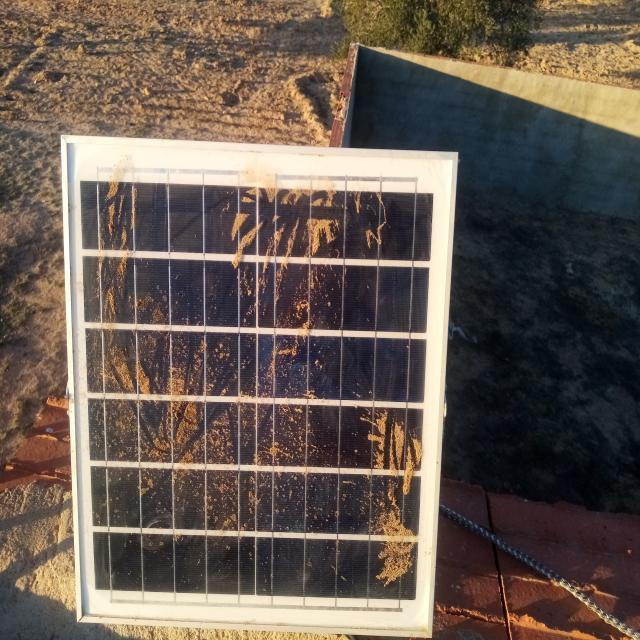faulty: (66, 142, 454, 636)
